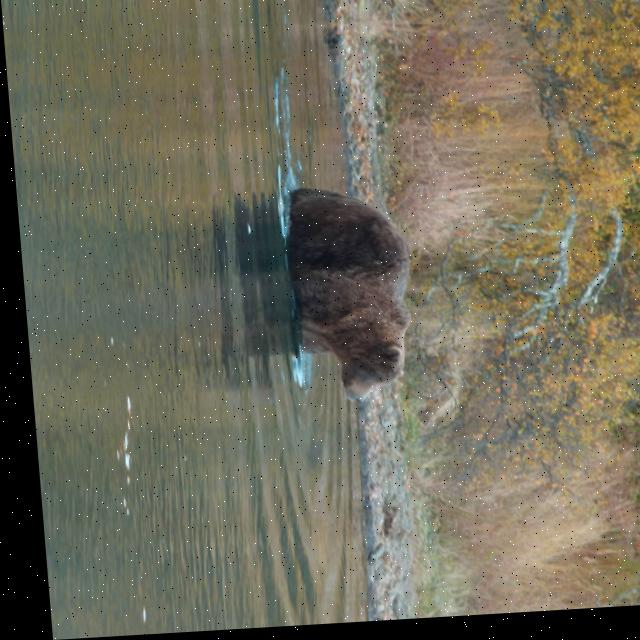bear face: (282, 186, 404, 411)
